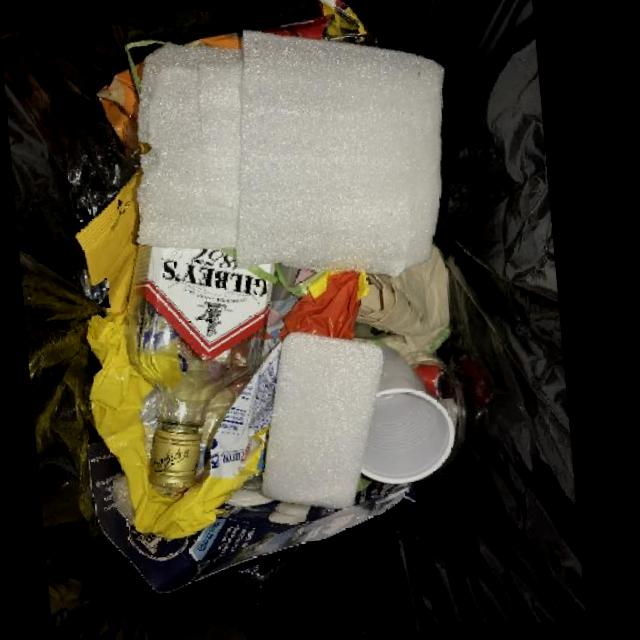bao_bi_thuc_pham: (75, 167, 369, 537)
chai_thuy_tinh: (126, 244, 271, 489)
giay: (356, 244, 449, 356)
hop_nhua: (360, 346, 454, 483)
xop: (135, 28, 445, 276), (261, 330, 384, 507)
